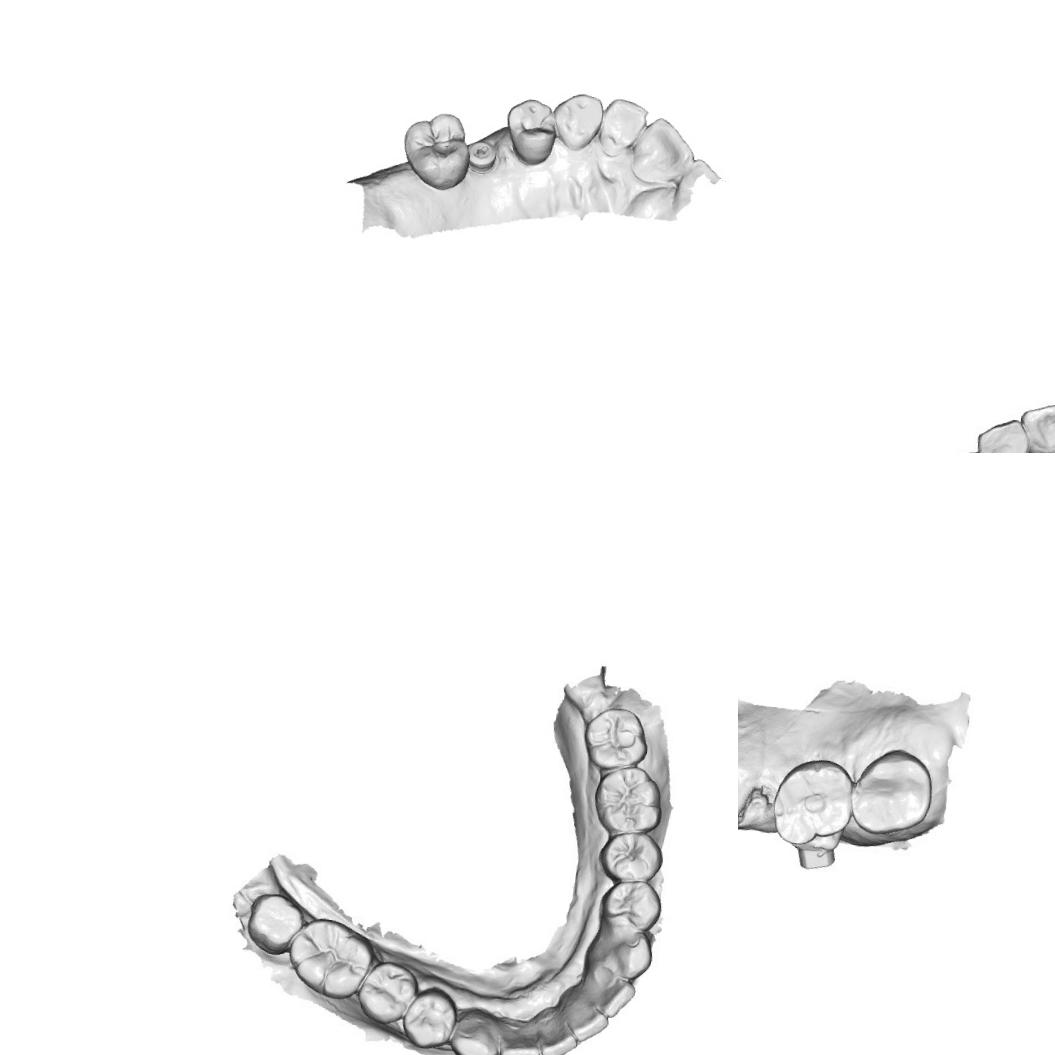canine: (548, 89, 606, 156), (596, 925, 660, 985), (451, 1003, 502, 1055)
implant_minus: (464, 140, 500, 176)
incisor: (628, 115, 698, 188), (576, 963, 639, 1020), (595, 95, 650, 160), (1016, 395, 1055, 453), (972, 417, 1033, 453), (562, 994, 607, 1042), (537, 1010, 580, 1055), (498, 1021, 542, 1055)
molar: (766, 750, 858, 851), (280, 914, 376, 1002), (850, 746, 936, 839), (398, 108, 476, 194), (589, 761, 670, 839), (583, 702, 651, 776), (243, 890, 304, 951)
premolar: (500, 95, 561, 169), (597, 829, 670, 888), (398, 988, 456, 1046), (360, 962, 415, 1018), (603, 878, 662, 928)
